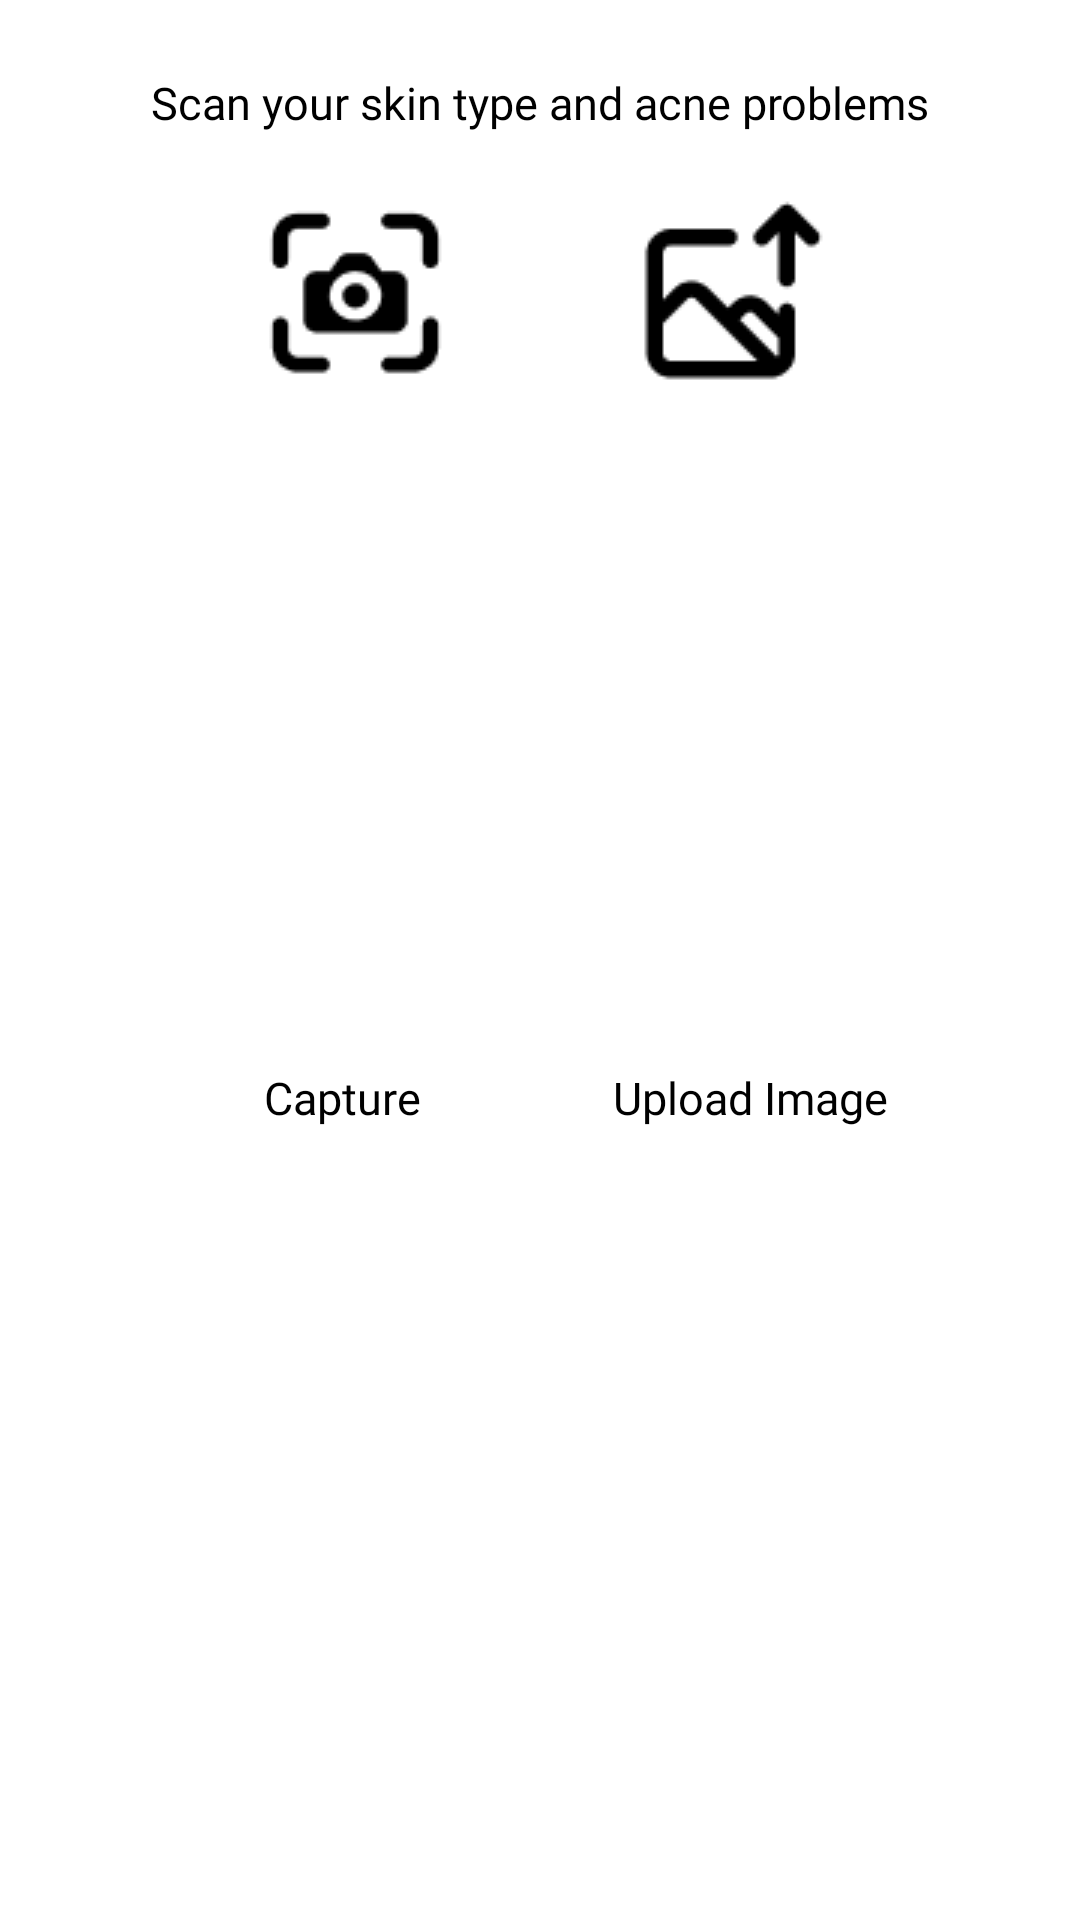

Icons on this 1080*1920 Android screen, each with its box as (x1, y1, x2, y2):
capture: (271, 212, 440, 374)
upload: (644, 202, 822, 380)
